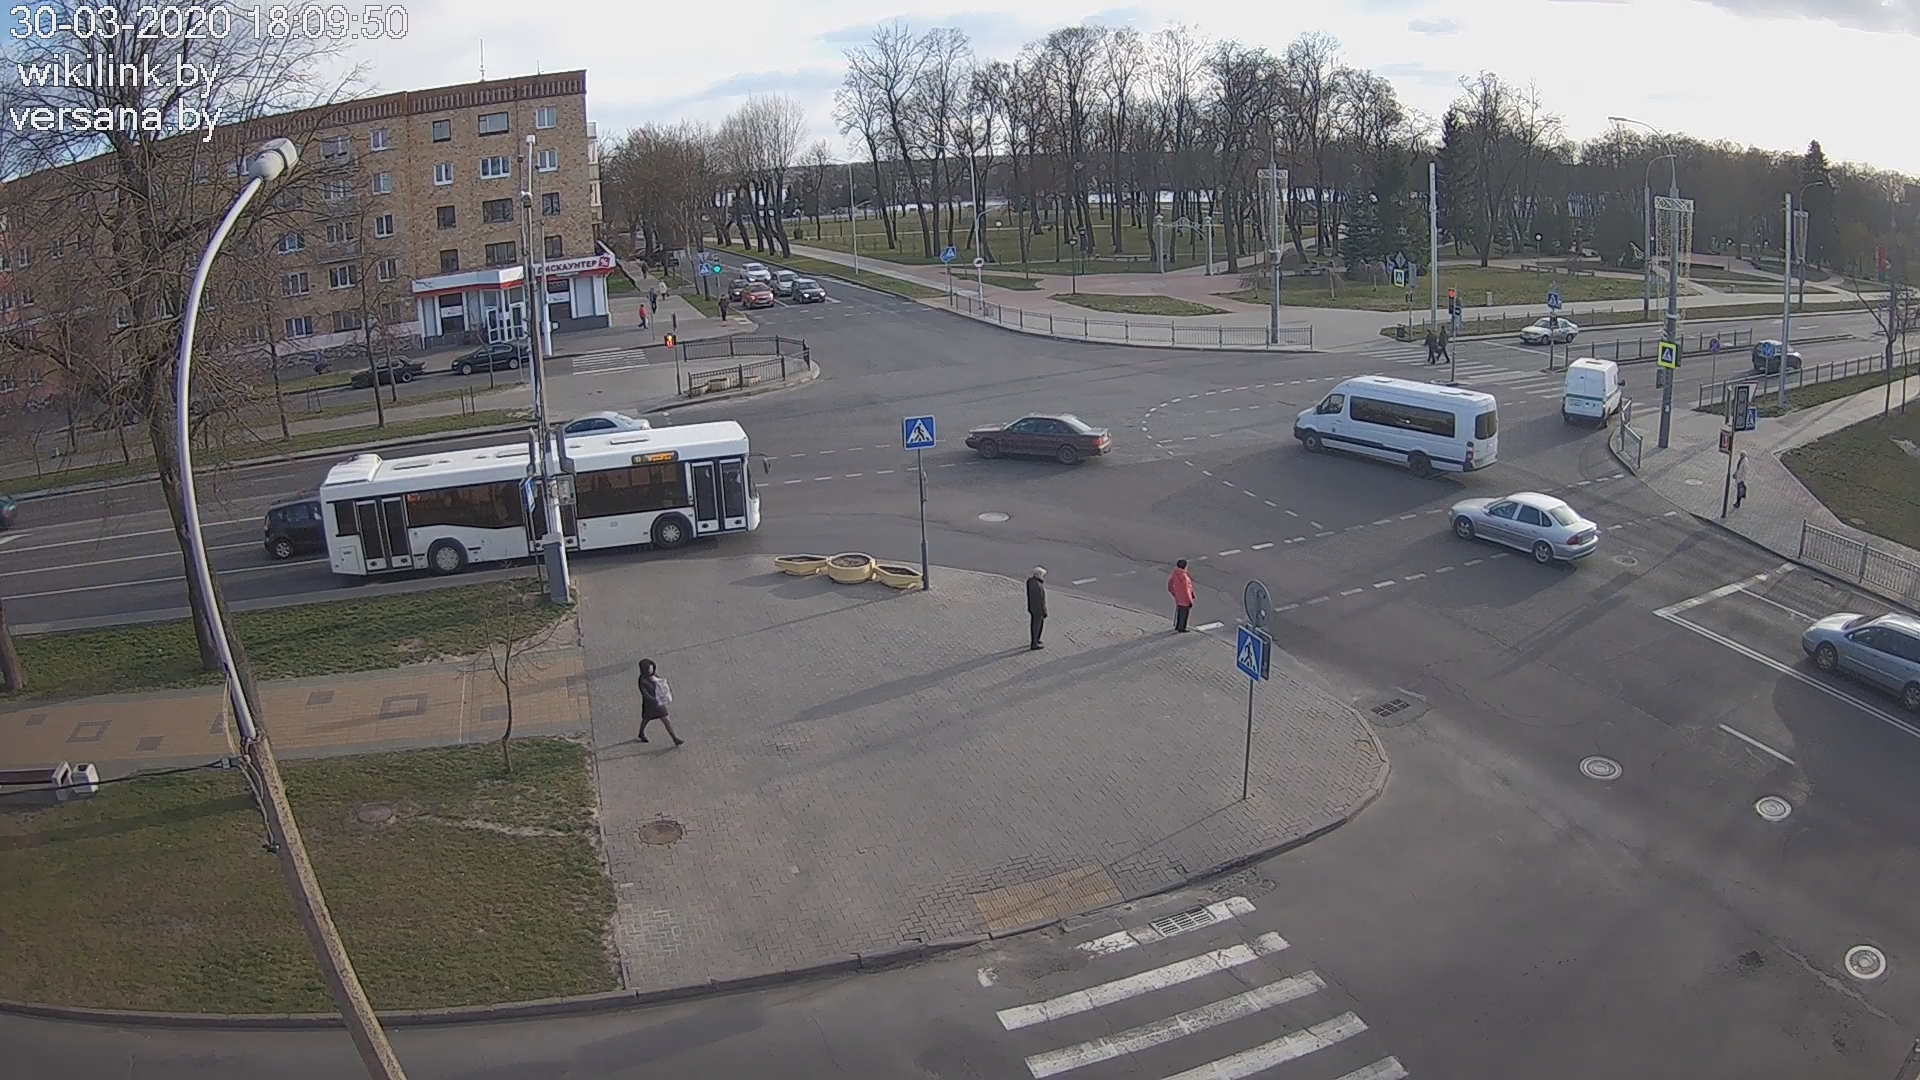bus: (319, 419, 762, 582)
car: (1294, 376, 1499, 477), (1803, 611, 1920, 709), (1447, 491, 1600, 564), (965, 411, 1113, 465), (1561, 357, 1626, 429), (262, 492, 323, 558), (451, 342, 529, 376), (553, 411, 651, 436), (351, 355, 427, 386), (1520, 316, 1578, 345), (791, 278, 825, 303), (741, 282, 773, 309), (771, 269, 798, 295), (740, 262, 771, 284)
